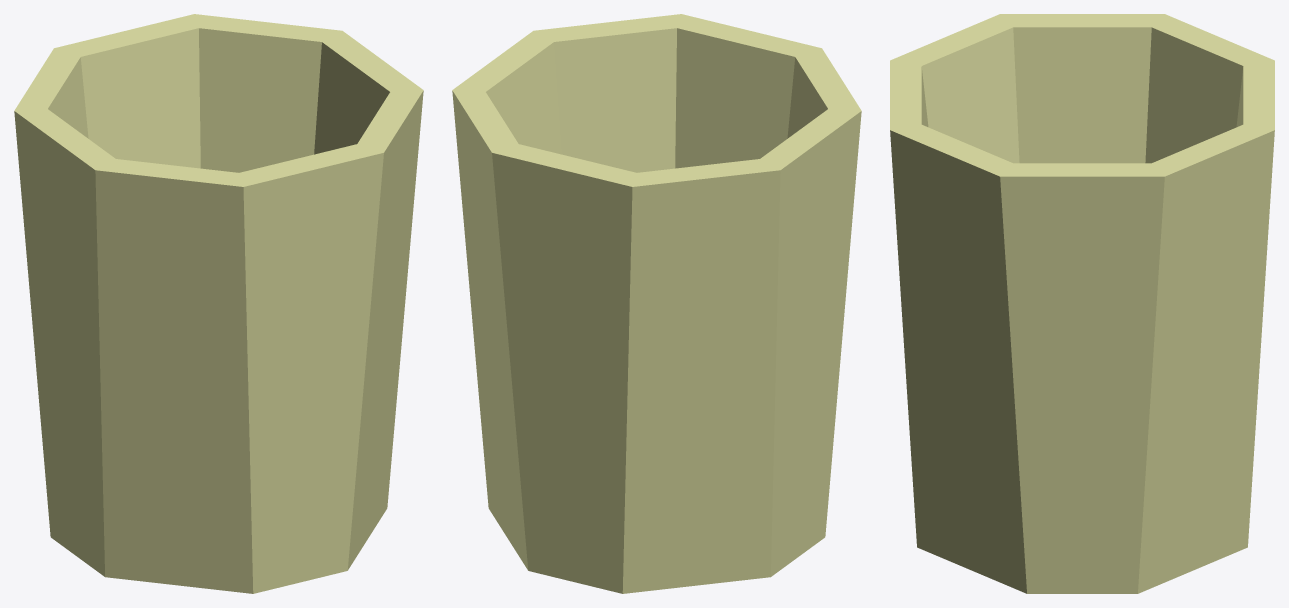
File: junkbox.gltf
The picture shows the model from 3 angles, left to right: view 1: azimuth 30°, elevation 25°; view 2: azimuth 150°, elevation 25°; view 3: azimuth 270°, elevation 25°; orthographic projection.
Visible parts, largest first — view 1: JunkBox; view 2: JunkBox; view 3: JunkBox.
Boxes of the visible parts, box(x1,y1,x2,y2) form: JunkBox: box(14, 14, 423, 593); JunkBox: box(452, 14, 861, 593); JunkBox: box(890, 14, 1274, 593).
Size of the model in its own units: 0.5254 by 0.6458 by 0.5254.
